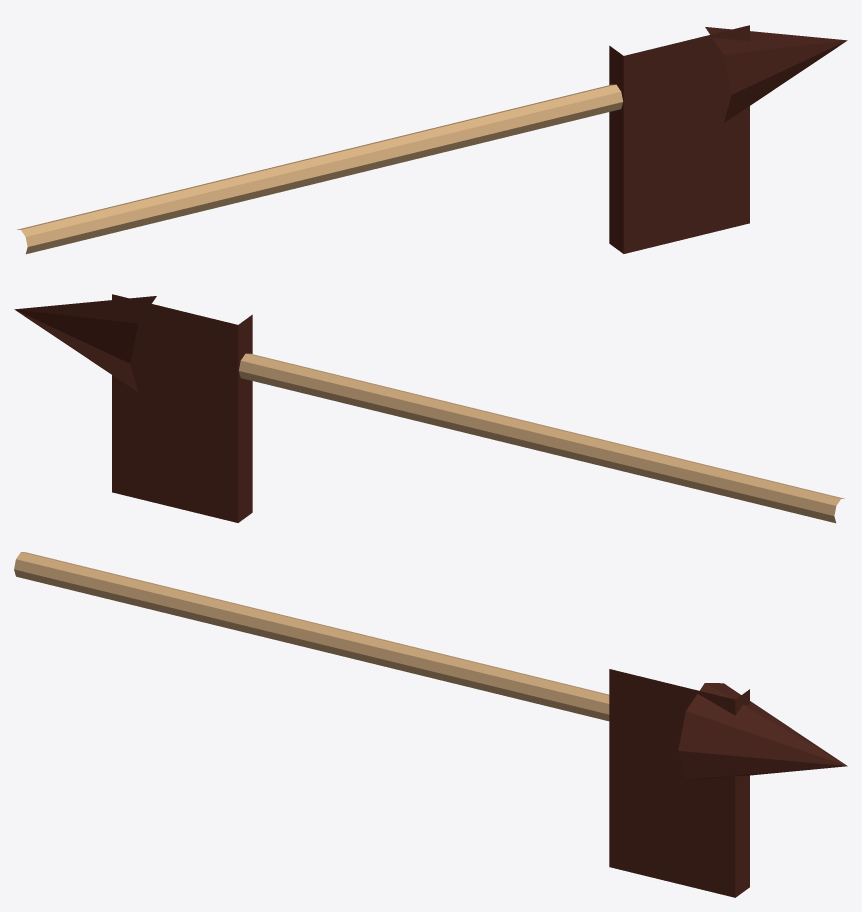
Rendered from magnus.glb.
The picture shows the model from 3 angles, top to bottom: view 1: azimuth 30°, elevation 25°; view 2: azimuth 150°, elevation 25°; view 3: azimuth 330°, elevation 25°; orthographic projection.
Parts seen in each view (by area): view 1: magnus-axe-head, magnus-shaft, magnus-tip; view 2: magnus-axe-head, magnus-shaft, magnus-tip; view 3: magnus-axe-head, magnus-shaft, magnus-tip.
Part boxes in pixels (box(x1,y1,x2,y2)): magnus-axe-head: box(609, 25, 749, 253); magnus-shaft: box(17, 84, 623, 254); magnus-tip: box(705, 27, 847, 122); magnus-axe-head: box(112, 294, 252, 522); magnus-shaft: box(238, 353, 844, 523); magnus-tip: box(14, 296, 156, 391); magnus-axe-head: box(609, 669, 749, 897); magnus-shaft: box(14, 552, 609, 721); magnus-tip: box(678, 683, 847, 779).
Size of the model in its own units: 1.97 by 0.455 by 0.22.
